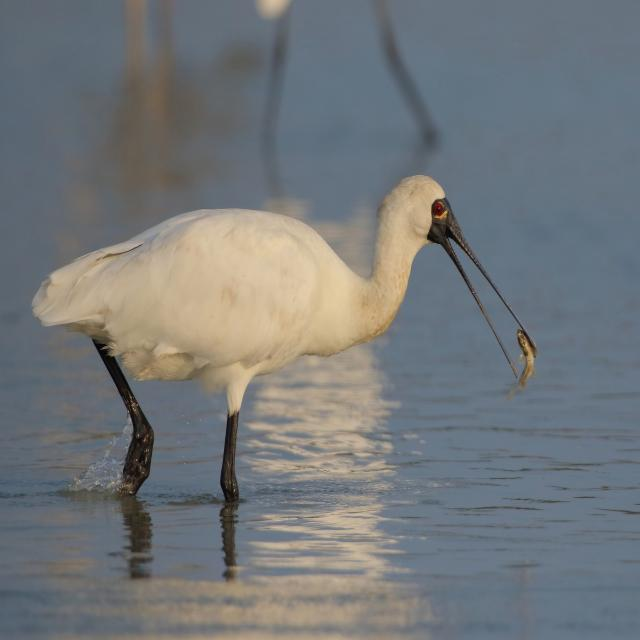Black-faced spoonbill: (33, 176, 506, 500)
